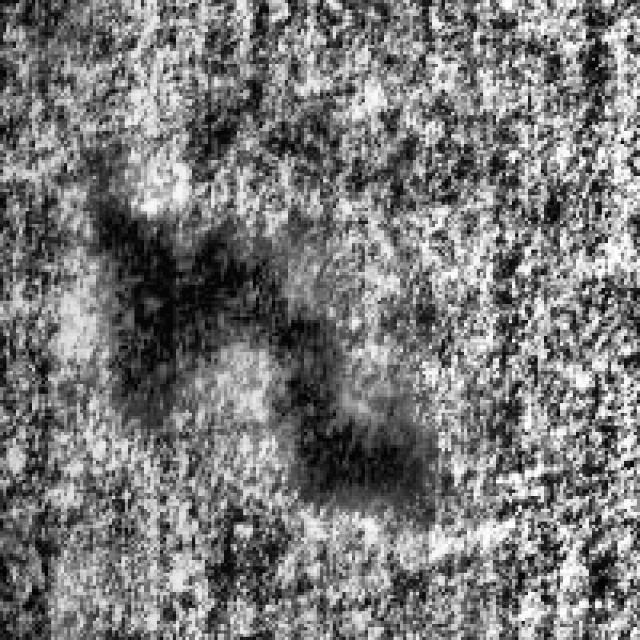Scratches: (83, 166, 419, 499)
